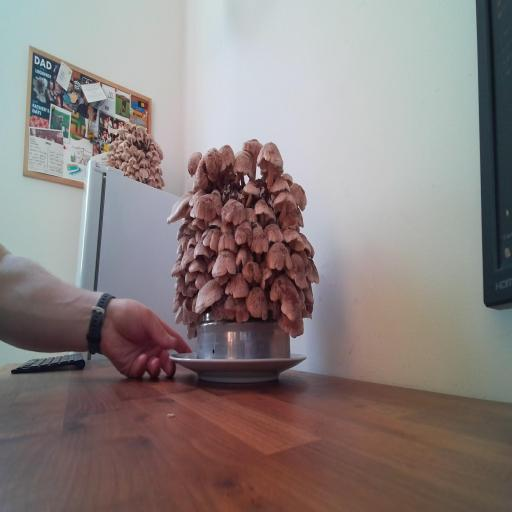Shiitake Mushroom: (257, 267, 318, 328), (182, 141, 236, 195), (248, 133, 293, 190), (183, 273, 232, 317), (157, 186, 203, 231), (278, 248, 320, 297), (187, 182, 226, 232), (240, 220, 277, 266), (236, 131, 265, 180), (268, 182, 301, 224), (186, 236, 222, 270), (275, 223, 313, 255), (214, 140, 240, 186), (219, 293, 255, 325), (284, 177, 315, 213), (249, 256, 279, 291), (235, 175, 267, 207), (248, 193, 276, 227), (228, 241, 260, 270), (274, 312, 308, 339), (231, 146, 255, 184), (300, 256, 325, 291), (266, 240, 293, 272), (173, 242, 202, 271), (189, 264, 217, 291), (211, 248, 237, 277), (183, 144, 205, 178), (246, 286, 267, 319), (224, 272, 249, 299), (221, 198, 246, 225), (184, 184, 210, 209), (201, 222, 222, 252), (173, 227, 193, 258), (171, 273, 192, 302), (234, 219, 253, 248), (298, 228, 313, 259), (211, 293, 226, 323), (169, 288, 185, 316), (242, 261, 262, 283), (218, 233, 239, 253), (183, 297, 198, 325), (279, 212, 301, 231), (279, 166, 297, 189), (264, 222, 283, 243), (292, 205, 307, 231), (173, 219, 189, 243), (209, 184, 225, 207), (189, 214, 209, 231), (270, 176, 291, 192), (295, 285, 309, 308), (188, 256, 207, 272), (303, 283, 315, 308), (170, 256, 183, 279), (206, 213, 224, 229), (205, 252, 218, 274), (185, 222, 203, 236), (245, 205, 257, 224), (184, 270, 198, 286), (192, 226, 205, 243), (186, 281, 199, 298), (220, 221, 235, 234), (264, 207, 277, 222), (187, 321, 197, 339), (185, 236, 198, 248), (175, 305, 183, 324), (308, 239, 315, 260)
